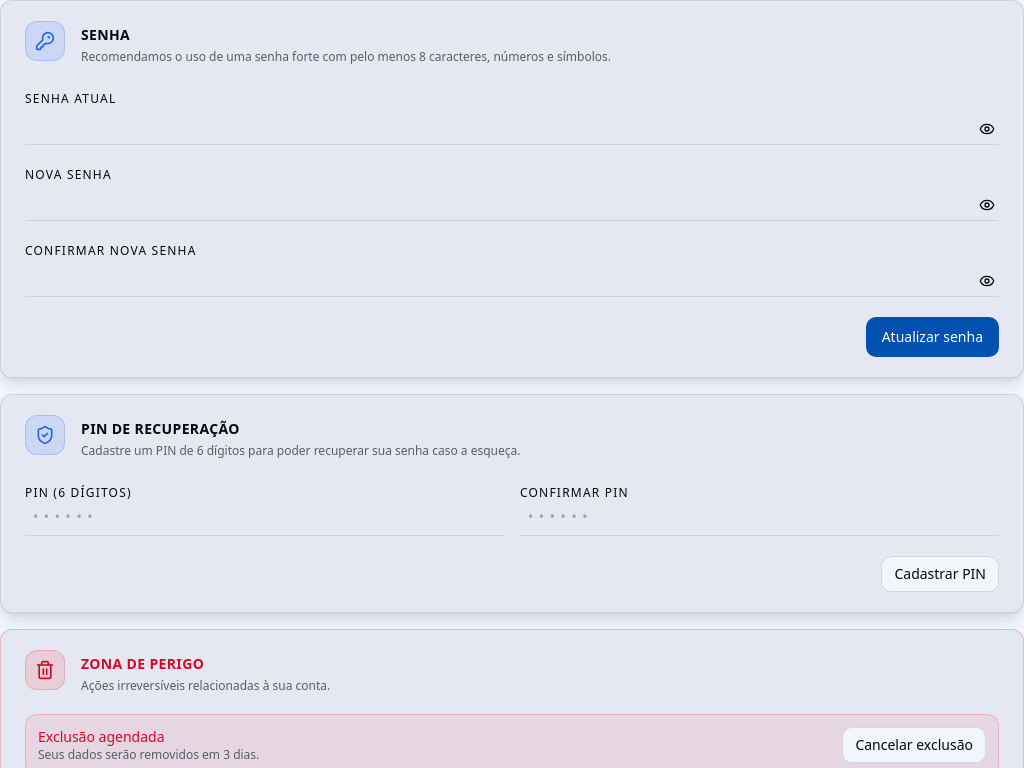
Test: TabSecurity — zona de perigo › desabilita botão "Cancelar exclusão" durante a requisição
The width and height of the screenshot is (1024, 768).
Click the button "Cancelar exclusão": (914, 745) [842,727,986,763]
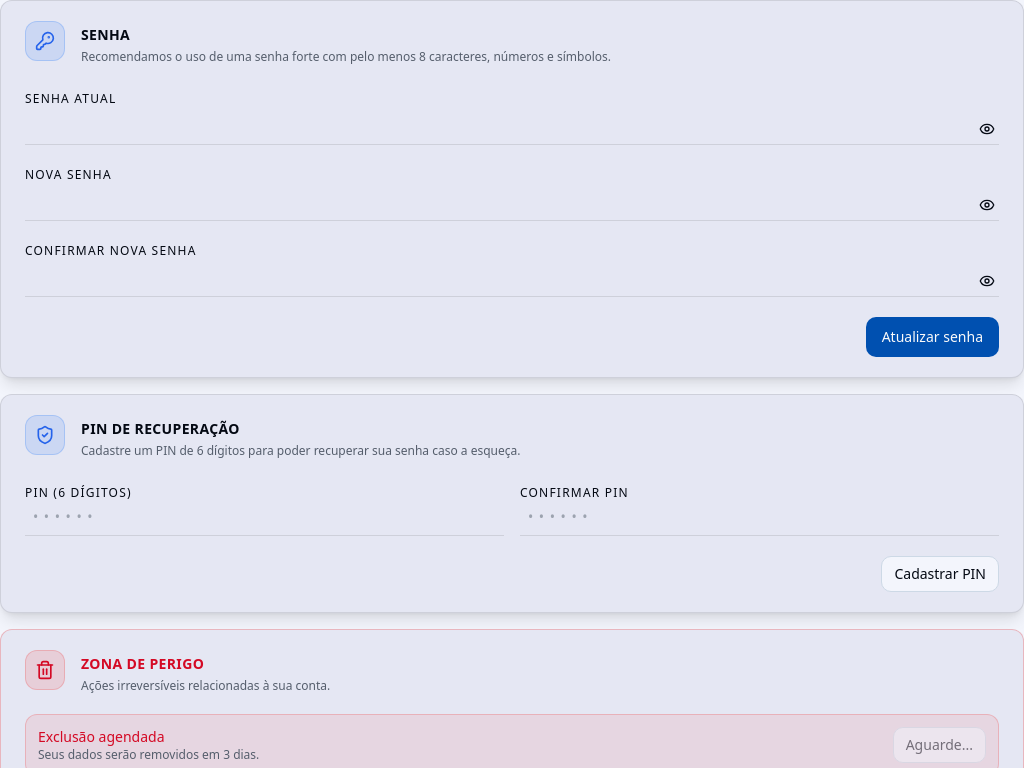
Now the button "Aguarde..." is disabled, box [893,727,986,763]
